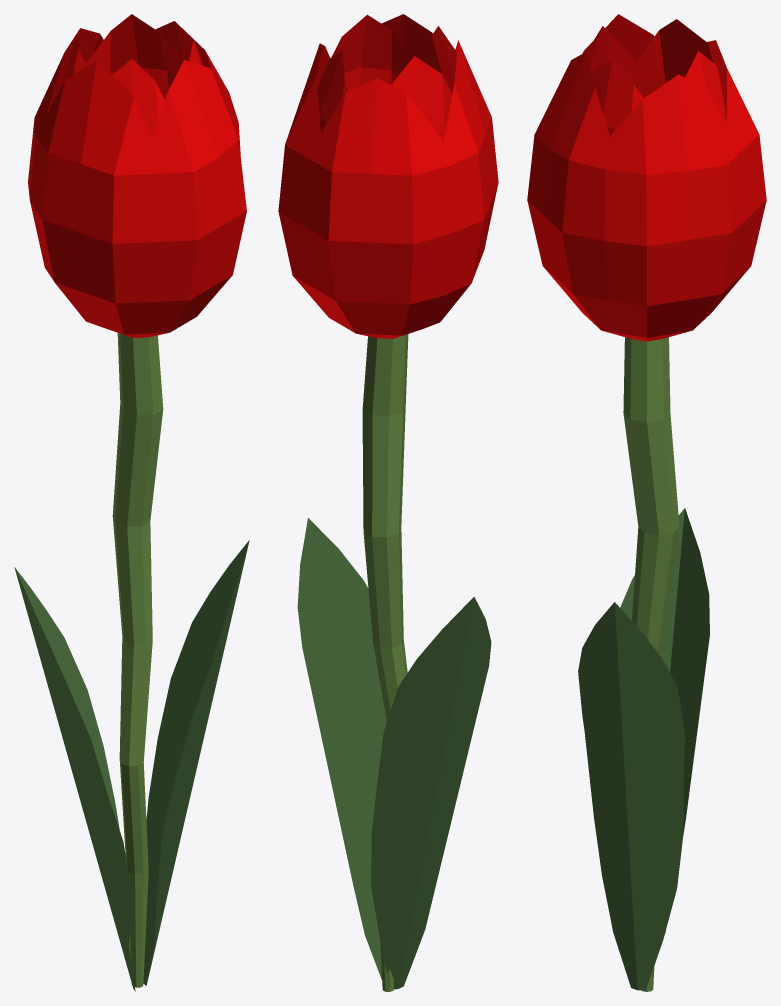
Rendered from Tulp_rood.fbx.
3 views of the same model, side by side, from view 1: azimuth 30°, elevation 25°; view 2: azimuth 150°, elevation 25°; view 3: azimuth 270°, elevation 25° (orthographic).
Parts seen in each view (by area): view 1: Tulp Rood; view 2: Tulp Rood; view 3: Tulp Rood.
Part boxes in pixels (box(x1,y1,x2,y2)): Tulp Rood: box(14, 14, 249, 991); Tulp Rood: box(278, 14, 498, 991); Tulp Rood: box(527, 14, 766, 991).
Bounding box in the file's own units: 6.99 × 31.66 × 7.23.
